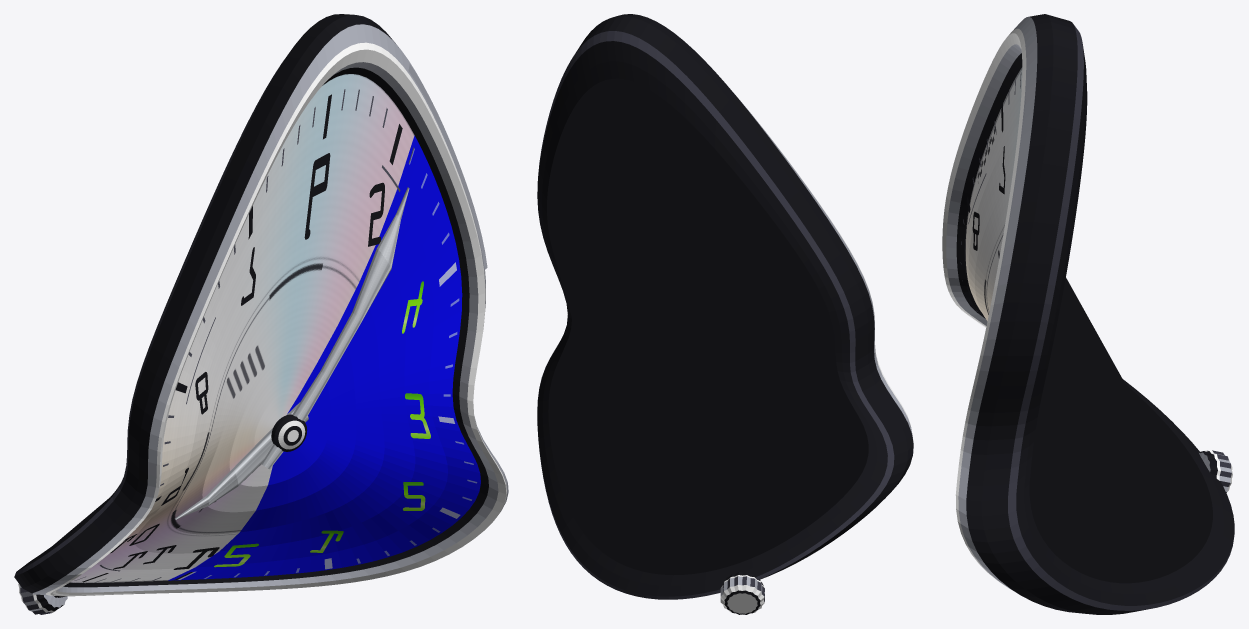
The model's file is clock-03.obj.
The picture shows the model from 3 angles, left to right: view 1: azimuth 30°, elevation 25°; view 2: azimuth 150°, elevation 25°; view 3: azimuth 270°, elevation 25°; orthographic projection. The views are drawn at different scales.
Parts seen in each view (by area): view 1: clock-03; view 2: clock-03; view 3: clock-03.
Boxes of the visible parts, bbox=[...] form: clock-03: bbox=[14, 14, 508, 614]; clock-03: bbox=[537, 14, 913, 614]; clock-03: bbox=[942, 14, 1234, 614].
Size of the model in its own units: 1.48 by 1.94 by 0.8716.
Materials: 11 (3 with a texture image).
